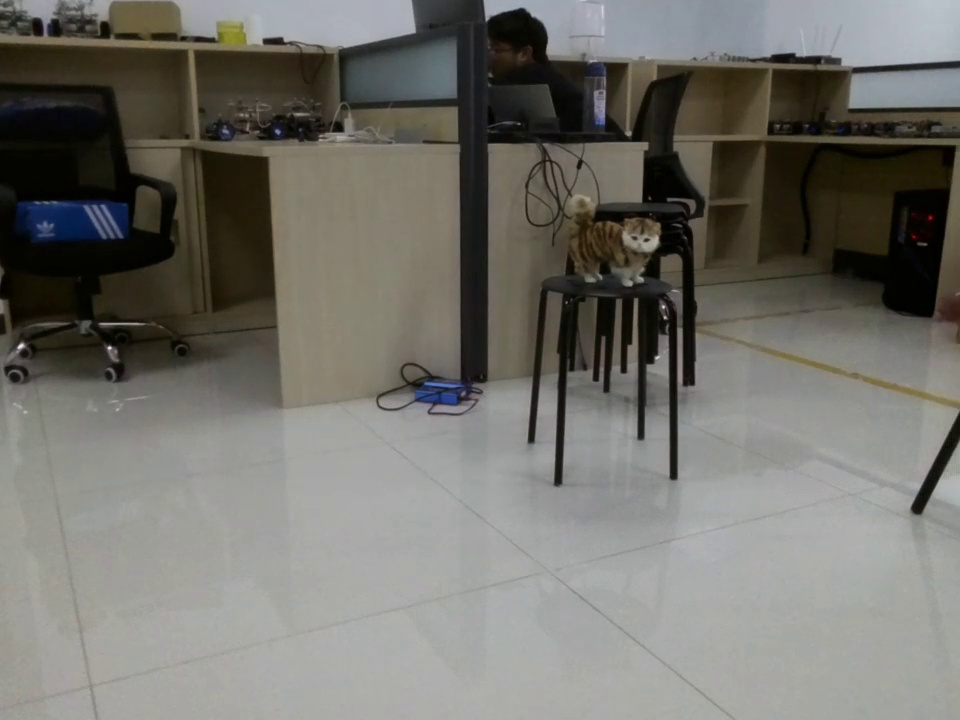cat: (563, 194, 665, 292)
